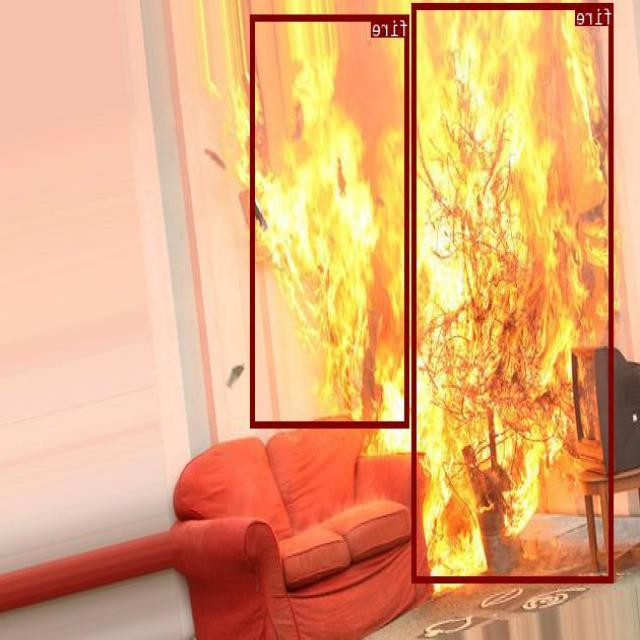fire: (413, 2, 614, 582), (251, 14, 410, 426)
